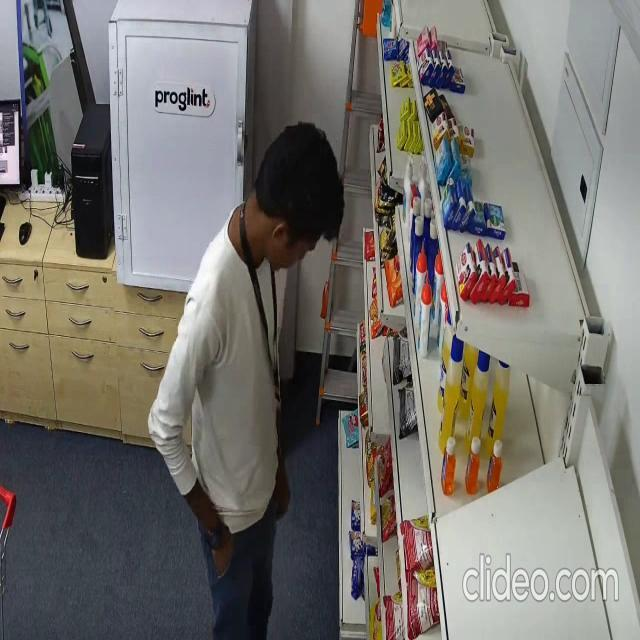Shoplifting: (146, 124, 346, 640)
